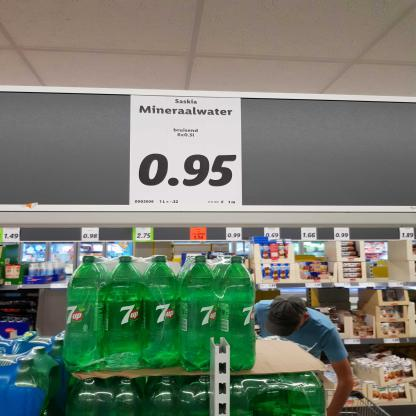prtg: (130, 96, 243, 207)
